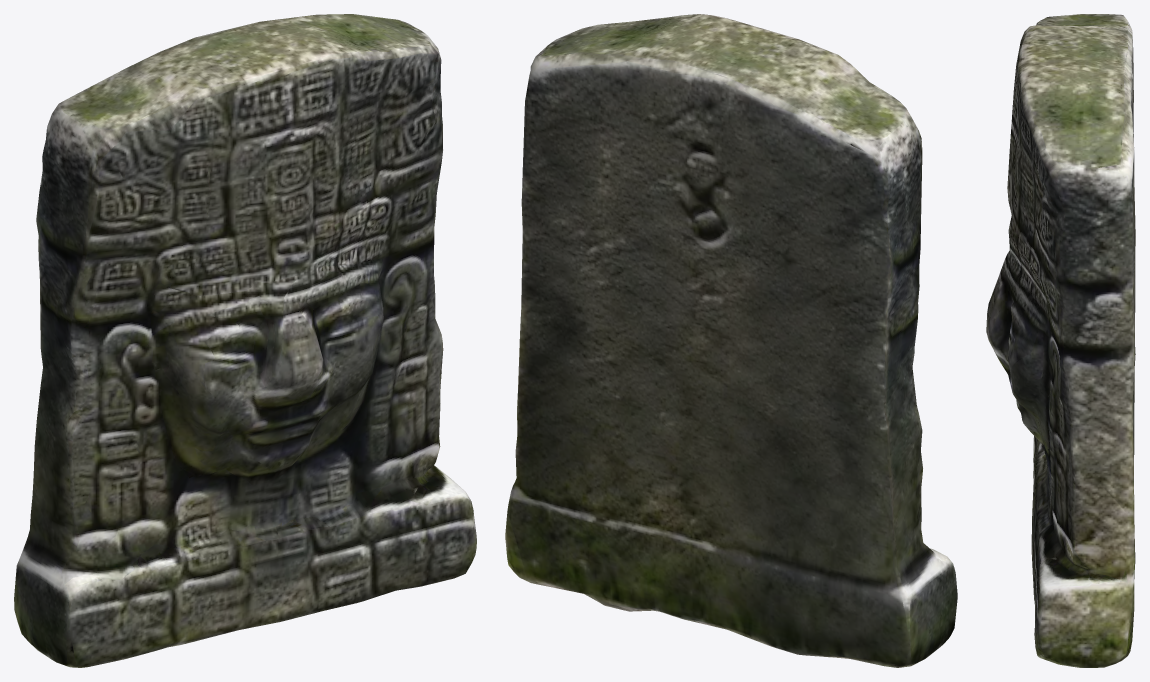
Rendered from stone-statue.lod0.glb.
The picture shows the model from 3 angles, left to right: view 1: azimuth 30°, elevation 25°; view 2: azimuth 150°, elevation 25°; view 3: azimuth 270°, elevation 25°; orthographic projection. The views are drawn at different scales.
Visible parts, largest first — view 1: Object_5; view 2: Object_5; view 3: Object_5.
Part boxes in pixels (x1,y1,x2,y2): Object_5: (14,14,476,667); Object_5: (505,14,957,667); Object_5: (986,14,1135,667).
Size of the model in its own units: 1.22 by 1.6 by 0.4093.
Materials: 1 (1 with a texture image).
